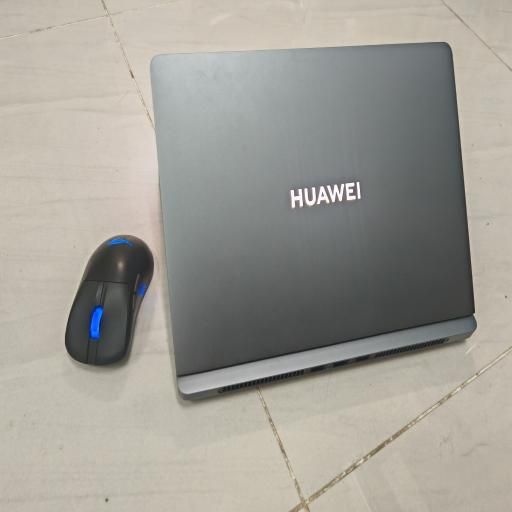laptop: (151, 43, 476, 399)
mouse: (65, 235, 154, 364)
